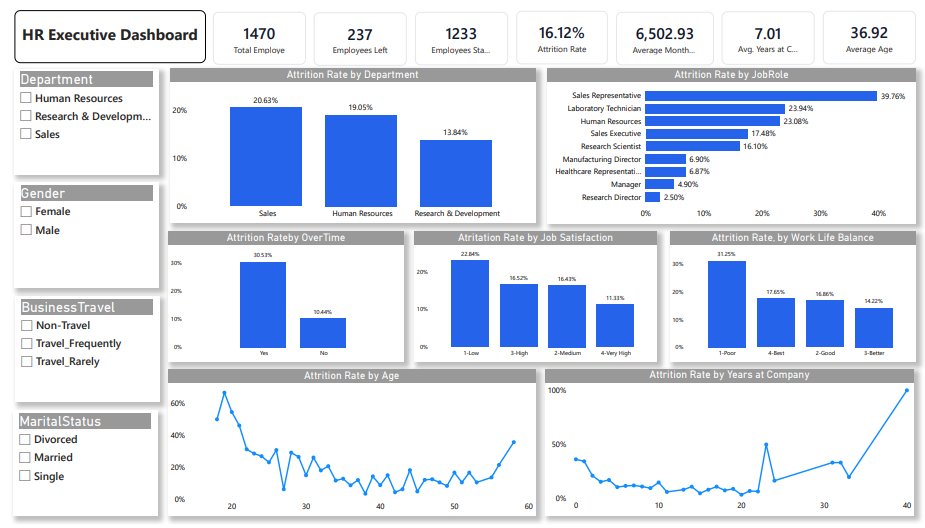

What the dashboard file says about the page in this screenshot:
{"tool":"powerbi","page":{"name":"HR Executive Dashboard","canvas":[1920,1080],"ordinal":0},"visuals":[{"type":"cardVisual","fields":{"Data":["HR-Employee-Attrition.Total Employe"]},"box":[428.3,6.7,195,111.7],"z":0},{"type":"cardVisual","fields":{"Data":["HR-Employee-Attrition.Attrition Rate"]},"box":[1062.5,5.4,192.5,112],"z":1000},{"type":"cardVisual","fields":{"Data":["HR-Employee-Attrition.Employe Stayed"]},"box":[850.8,7.1,195,112],"z":2000},{"type":"cardVisual","fields":{"Data":["HR-Employee-Attrition.Monthly Avarge Income"]},"box":[1271.7,6.7,205,112],"z":3000},{"type":"cardVisual","fields":{"Data":["HR-Employee-Attrition.Employe Left"]},"box":[639.2,7.5,195,112],"z":4000},{"type":"textbox","box":[13.2,4.4,399.5,109.8],"z":5000},{"type":"clusteredColumnChart","title":"Attrition Rate by Department","fields":{"Category":["HR-Employee-Attrition.Department"],"Y":["HR-Employee-Attrition.Attrition Rate"]},"box":[338,125,766.1,324],"z":6000},{"type":"clusteredBarChart","title":"Attrition Rate by JobRole","fields":{"Category":["HR-Employee-Attrition.JobRole"],"Y":["HR-Employee-Attrition.Attrition Rate"]},"box":[1127.5,125,772.5,325],"z":7000},{"type":"clusteredColumnChart","title":"Attrition Rateby OverTime","fields":{"Category":["HR-Employee-Attrition.OverTime"],"Y":["HR-Employee-Attrition.Attrition Rate"]},"box":[335,466.2,492.5,272.5],"z":8000},{"type":"clusteredColumnChart","title":"Atritation Rate by Job Satisfaction","fields":{"Category":["HR-Employee-Attrition.Job Satisfaction lable"],"Y":["HR-Employee-Attrition.Attrition Rate"]},"box":[850,466.2,507.5,272.5],"z":9000},{"type":"clusteredColumnChart","title":"Attrition Rate,  by Work Life Balance","fields":{"Category":["HR-Employee-Attrition.WorkLifeBalance Lable"],"Y":["HR-Employee-Attrition.Attrition Rate"]},"box":[1385,466.2,515,272.5],"z":10000},{"type":"lineChart","title":"Attrition Rate by Age","fields":{"Y":["HR-Employee-Attrition.Attrition Rate"],"Category":["HR-Employee-Attrition.Age"]},"box":[334.3,754.9,770,307],"z":11000},{"type":"lineChart","title":"Attrition Rate by Years at Company","fields":{"Category":["HR-Employee-Attrition.YearsAtCompany"],"Y":["HR-Employee-Attrition.Attrition Rate"]},"box":[1124.3,754.3,771.4,307],"z":12000},{"type":"slicer","fields":{"Values":["HR-Employee-Attrition.Department"]},"box":[11.7,126.7,303.3,220],"z":13000},{"type":"slicer","fields":{"Values":["HR-Employee-Attrition.Gender"]},"box":[13.3,365,301.7,220],"z":14000},{"type":"slicer","fields":{"Values":["HR-Employee-Attrition.BusinessTravel"]},"box":[14,603.3,302,220],"z":15000},{"type":"slicer","fields":{"Values":["HR-Employee-Attrition.MaritalStatus"]},"box":[10,842,302,220],"z":16000},{"type":"cardVisual","fields":{"Data":["Avg(HR-Employee-Attrition.Age)"]},"box":[1705,5,195,112],"z":17000},{"type":"cardVisual","fields":{"Data":["Avg(HR-Employee-Attrition.YearsAtCompany)"]},"box":[1493.3,6.3,195,112],"z":18000}]}

Visuals, with their boxes in screenshot pixels (x1, y1, x2, y2), scaled from the page's 1920x1080 canvas onto the 925x528 screenshot:
cardVisual - HR-Employee-Attrition.Total Employe: [x1=206, y1=3, x2=300, y2=58]
cardVisual - HR-Employee-Attrition.Attrition Rate: [x1=512, y1=3, x2=605, y2=57]
cardVisual - HR-Employee-Attrition.Employe Stayed: [x1=410, y1=3, x2=504, y2=58]
cardVisual - HR-Employee-Attrition.Monthly Avarge Income: [x1=613, y1=3, x2=711, y2=58]
cardVisual - HR-Employee-Attrition.Employe Left: [x1=308, y1=4, x2=402, y2=58]
textbox: [x1=6, y1=2, x2=199, y2=56]
"Attrition Rate by Department" clusteredColumnChart: [x1=163, y1=61, x2=532, y2=220]
"Attrition Rate by JobRole" clusteredBarChart: [x1=543, y1=61, x2=915, y2=220]
"Attrition Rateby OverTime" clusteredColumnChart: [x1=161, y1=228, x2=399, y2=361]
"Atritation Rate by Job Satisfaction" clusteredColumnChart: [x1=410, y1=228, x2=654, y2=361]
"Attrition Rate,  by Work Life Balance" clusteredColumnChart: [x1=667, y1=228, x2=915, y2=361]
"Attrition Rate by Age" lineChart: [x1=161, y1=369, x2=532, y2=519]
"Attrition Rate by Years at Company" lineChart: [x1=542, y1=369, x2=913, y2=519]
slicer - HR-Employee-Attrition.Department: [x1=6, y1=62, x2=152, y2=169]
slicer - HR-Employee-Attrition.Gender: [x1=6, y1=178, x2=152, y2=286]
slicer - HR-Employee-Attrition.BusinessTravel: [x1=7, y1=295, x2=152, y2=403]
slicer - HR-Employee-Attrition.MaritalStatus: [x1=5, y1=412, x2=150, y2=519]
cardVisual - Avg(HR-Employee-Attrition.Age): [x1=821, y1=2, x2=915, y2=57]
cardVisual - Avg(HR-Employee-Attrition.YearsAtCompany): [x1=719, y1=3, x2=813, y2=58]
